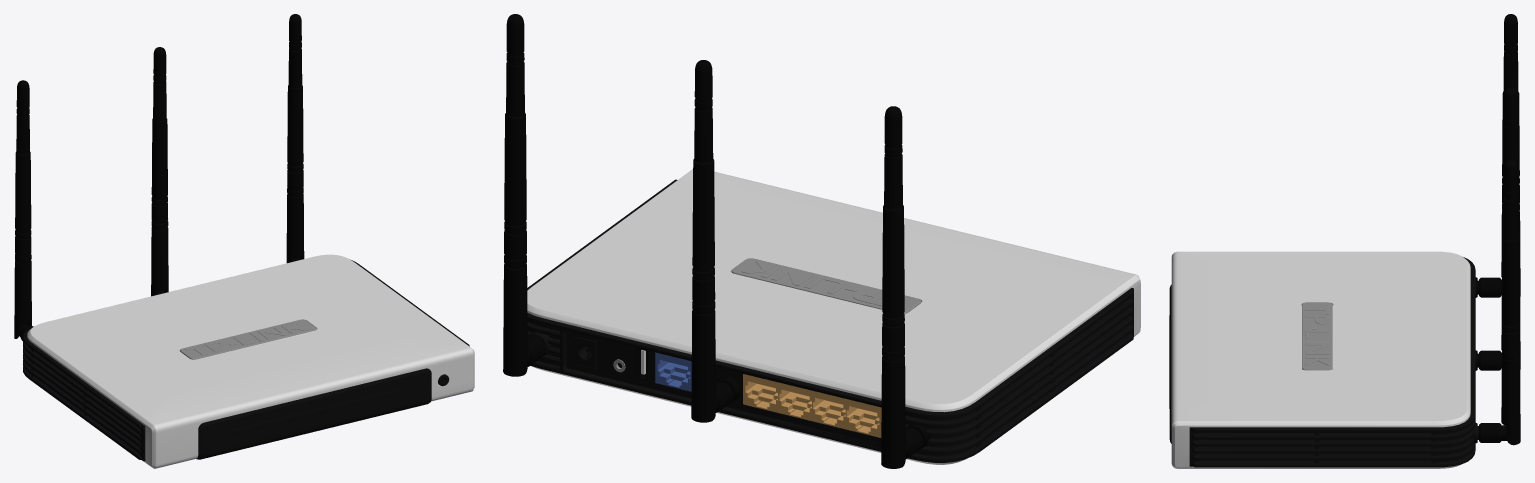
The model's file is router.d4d02fe9.glb.
The picture shows the model from 3 angles, left to right: view 1: azimuth 30°, elevation 25°; view 2: azimuth 150°, elevation 25°; view 3: azimuth 270°, elevation 25°; orthographic projection. The views are drawn at different scales.
Visible parts, largest first — view 1: Box002, Group004, Line010, Line008, Line009; view 2: Box002, Group004, Line010, Line009, Line008, Line004, Cylinder002; view 3: Box002, Group004, Line009, Line010, Line008, Cylinder003, Cylinder002, Cylinder004.
Boxes of the visible parts, bbox=[...] form: Box002: bbox=[27, 254, 474, 468]; Group004: bbox=[23, 259, 469, 461]; Line010: bbox=[14, 80, 31, 338]; Line008: bbox=[151, 47, 168, 296]; Line009: bbox=[286, 14, 304, 262]; Box002: bbox=[527, 169, 1140, 464]; Group004: bbox=[527, 179, 1133, 462]; Line010: bbox=[881, 106, 905, 468]; Line009: bbox=[503, 14, 527, 376]; Line008: bbox=[691, 60, 715, 422]; Line004: bbox=[574, 336, 881, 437]; Cylinder002: bbox=[715, 376, 740, 412]; Box002: bbox=[1169, 251, 1470, 468]; Group004: bbox=[1189, 257, 1475, 467]; Line009: bbox=[1501, 159, 1520, 445]; Line010: bbox=[1501, 14, 1520, 296]; Line008: bbox=[1501, 87, 1520, 369]; Cylinder003: bbox=[1471, 423, 1506, 443]; Cylinder002: bbox=[1475, 350, 1501, 370]; Cylinder004: bbox=[1475, 277, 1501, 297].
Bounding box in the file's own units: 0.197 × 0.1554 × 0.1658.
